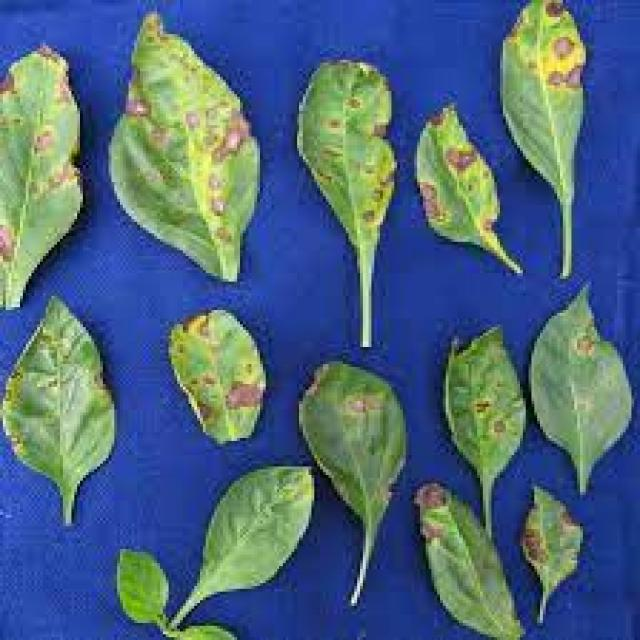bercak_daun: (272, 54, 412, 235), (485, 0, 605, 185), (437, 324, 529, 472), (410, 98, 499, 246)
